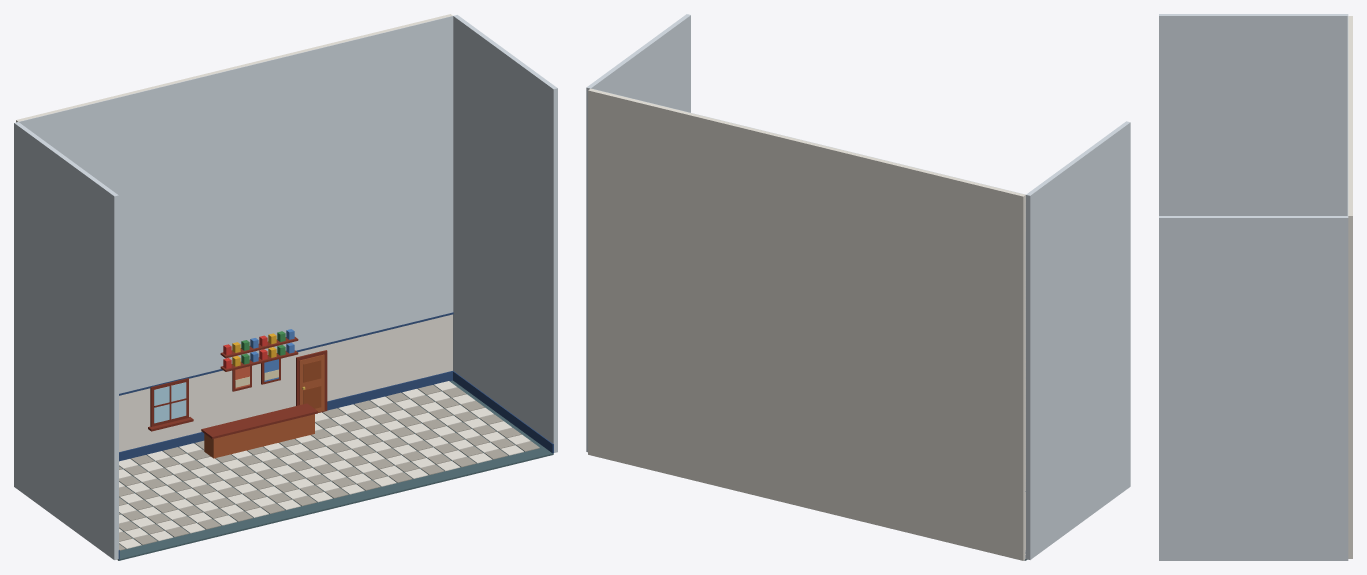
File: room_holanda_shop.glb
3 renders of one model, left to right at view 1: azimuth 30°, elevation 25°; view 2: azimuth 150°, elevation 25°; view 3: azimuth 270°, elevation 25°, orthographic. The views are drawn at different scales.
Parts seen in each view (by area): view 1: room; view 2: room; view 3: room.
Boxes of the visible parts, left/top/right/bottom form: room: left=14, top=14, right=557, bottom=560; room: left=586, top=14, right=1130, bottom=560; room: left=1159, top=14, right=1352, bottom=560.
Bounding box in the file's own units: 30.6 × 24.11 × 12.3.
